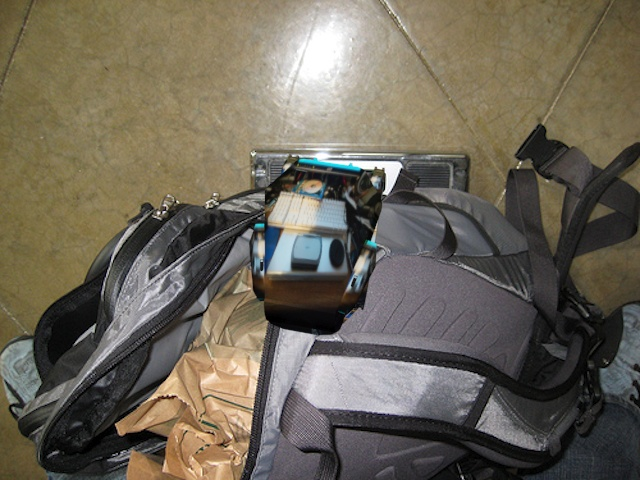back_pack: (240, 144, 400, 337)
